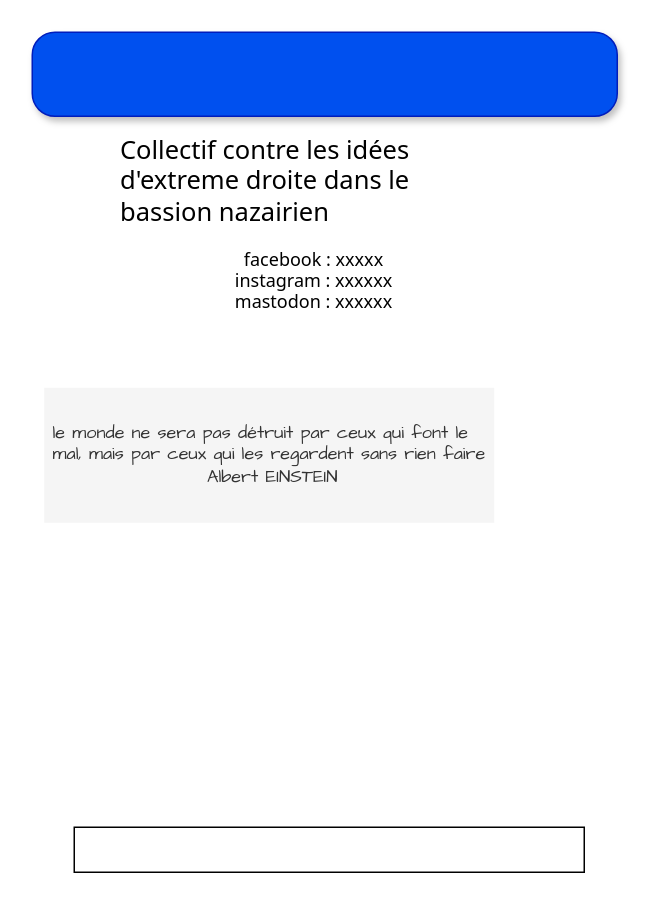
This 653x899 diagram has some shape labels left out. The shapes that lost their labels are listed below. From the top down, each one's centre as x and y in pixels, then its label:
At point (325, 76): "QUISOMMES NOUS Des citoyens indignés qui ne veulent ......".
At point (328, 849): "ce document est en Diffusion libre".
